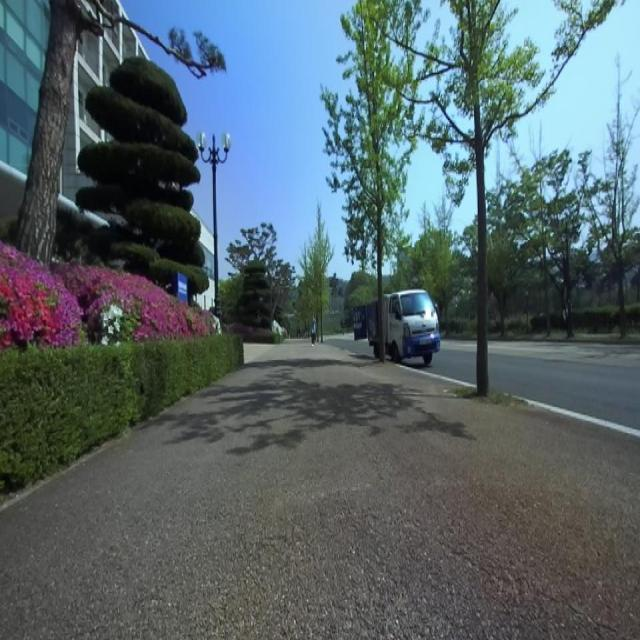sidewalk: (0, 340, 640, 638)
